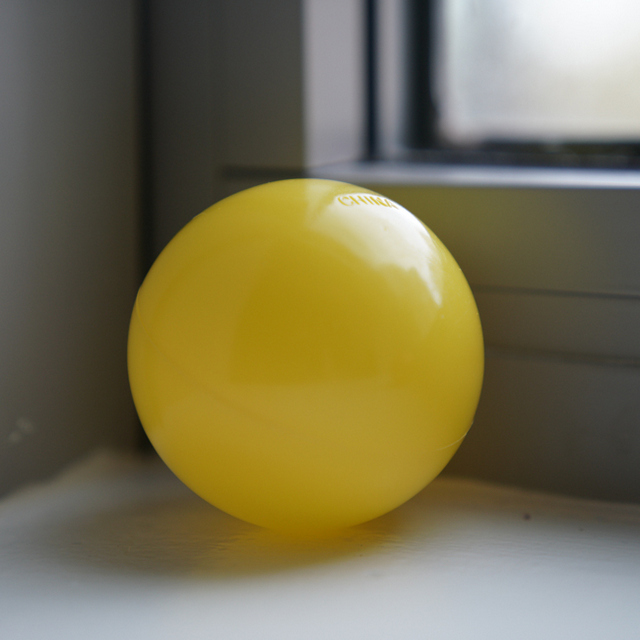Ball: (125, 179, 491, 533)
